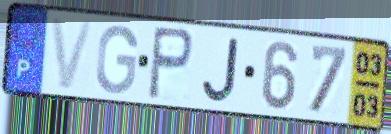6: (259, 38, 301, 112)
7: (308, 42, 350, 118)
G: (93, 22, 140, 96)
J: (200, 35, 241, 105)
P: (145, 24, 196, 103)
V: (48, 15, 97, 92)
